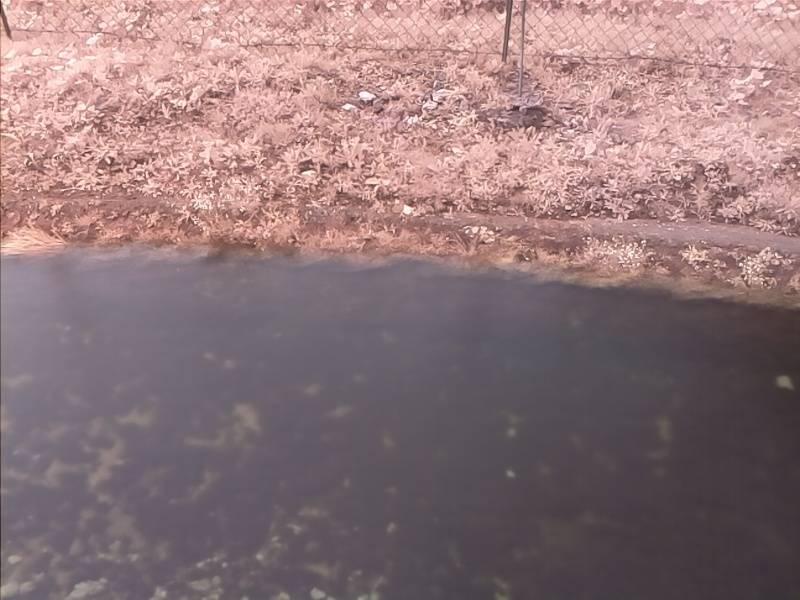Water: (1, 249, 799, 600)
